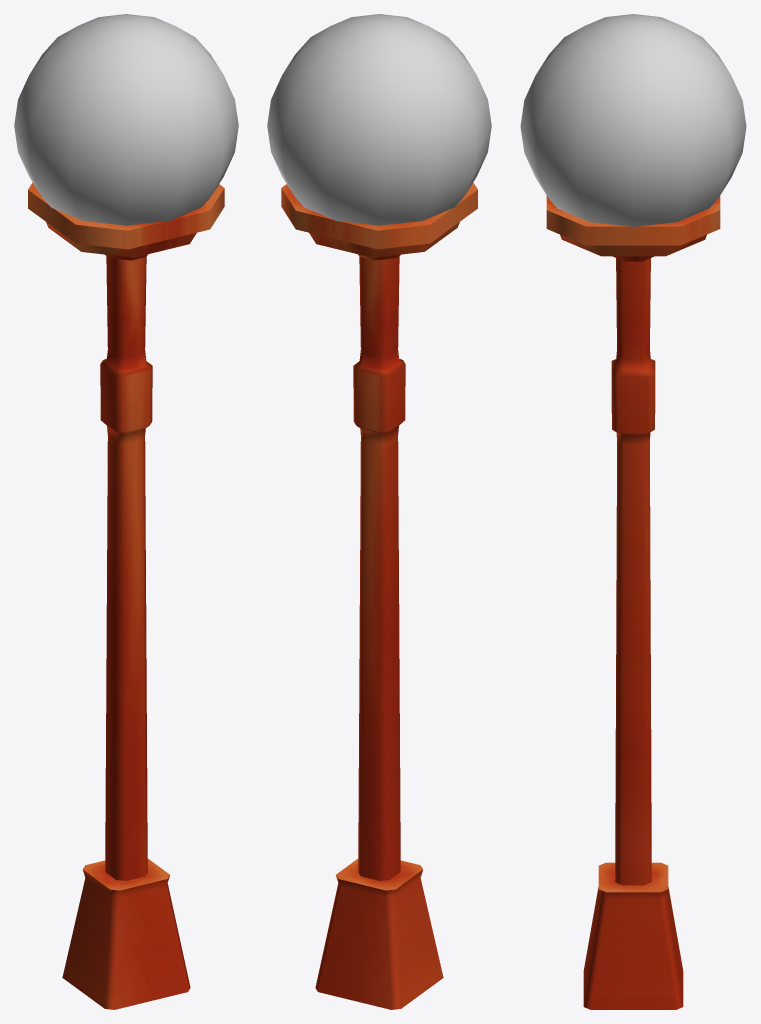
The model's file is CopperStreetLampHand.fbx.
The picture shows the model from 3 angles, left to right: view 1: azimuth 30°, elevation 25°; view 2: azimuth 150°, elevation 25°; view 3: azimuth 270°, elevation 25°; orthographic projection.
Parts seen in each view (by area): view 1: LampPole (1); view 2: LampPole (1); view 3: LampPole (1).
Part boxes in pixels (left/top/right/bottom): LampPole (1): left=14, top=14, right=238, bottom=1009; LampPole (1): left=267, top=14, right=491, bottom=1009; LampPole (1): left=520, top=14, right=746, bottom=1009.
Bounding box in the file's own units: 0.3103 × 1.46 × 0.3103.
